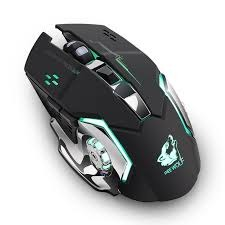mouse: (16, 20, 204, 199)
